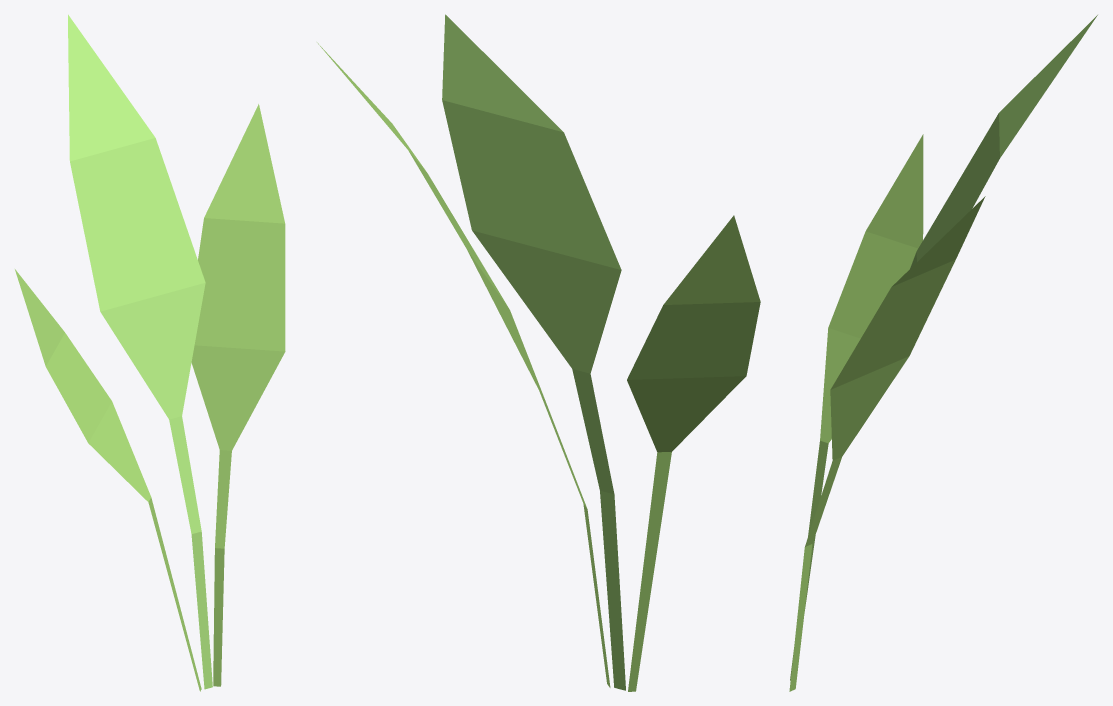
Rendered from Plant_g_OneS_03.fbx.
3 renders of one model, left to right at view 1: azimuth 30°, elevation 25°; view 2: azimuth 150°, elevation 25°; view 3: azimuth 270°, elevation 25°, orthographic. The views are drawn at different scales.
Visible parts, largest first — view 1: Plant_g_OneS_03; view 2: Plant_g_OneS_03; view 3: Plant_g_OneS_03.
Part boxes in pixels (bbox=[...]): Plant_g_OneS_03: bbox=[15, 14, 285, 691]; Plant_g_OneS_03: bbox=[317, 14, 760, 691]; Plant_g_OneS_03: bbox=[789, 15, 1097, 691].
Size of the model in its own units: 0.2865 by 0.5846 by 0.2454.
